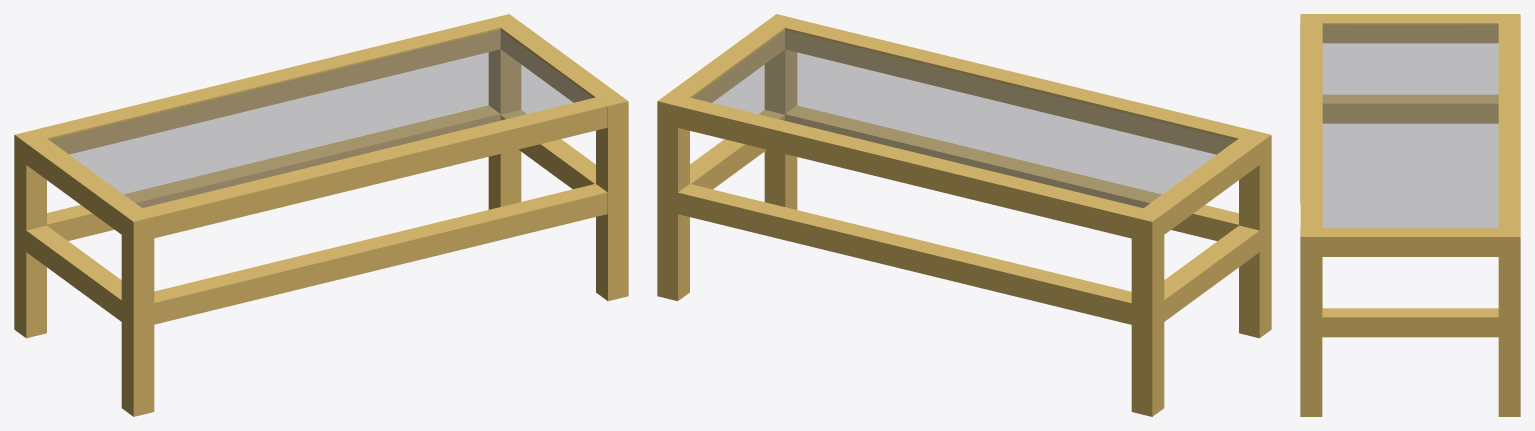
Rendered from coffeeTable.fbx.
3 views of the same model, side by side, from view 1: azimuth 30°, elevation 25°; view 2: azimuth 150°, elevation 25°; view 3: azimuth 270°, elevation 25° (orthographic). The views are drawn at different scales.
Parts seen in each view (by area): view 1: sweethome3d_window_pane, Cube_2_1, Cube_2_2, Cube_2, Cube_2_3, Cube_3, Cube_3_1, Cube_3_3, Cube_1, Cube_1_3, Cube_1_1, Cube_3_2 (+1 smaller); view 2: sweethome3d_window_pane, Cube_2, Cube_2_3, Cube_2_1, Cube_2_2, Cube_3_3, Cube_3_2, Cube_1, Cube_3, Cube_1_3, Cube_1_1, Cube_3_1 (+1 smaller); view 3: sweethome3d_window_pane, Cube_1_1, Cube_1_2, Cube_1, Cube_1_3, Cube_2, Cube_2_1, Cube_3_2, Cube_3_1.
Boxes of the visible parts, bbox=[...] form: sweethome3d_window_pane: bbox=[49, 29, 592, 207]; Cube_2_1: bbox=[142, 97, 607, 238]; Cube_2_2: bbox=[154, 184, 607, 324]; Cube_2: bbox=[35, 19, 500, 154]; Cube_2_3: bbox=[47, 105, 500, 240]; Cube_3: bbox=[121, 214, 154, 416]; Cube_3_1: bbox=[596, 102, 628, 300]; Cube_3_3: bbox=[14, 136, 46, 338]; Cube_1: bbox=[14, 130, 153, 240]; Cube_1_3: bbox=[14, 222, 133, 329]; Cube_1_1: bbox=[489, 14, 628, 106]; Cube_3_2: bbox=[488, 49, 521, 209]; sweethome3d_window_pane: bbox=[692, 30, 1235, 207]; Cube_2: bbox=[678, 97, 1142, 238]; Cube_2_3: bbox=[678, 184, 1131, 324]; Cube_2_1: bbox=[785, 19, 1250, 154]; Cube_2_2: bbox=[785, 105, 1238, 241]; Cube_3_3: bbox=[1131, 215, 1164, 416]; Cube_3_2: bbox=[657, 102, 689, 300]; Cube_1: bbox=[1131, 130, 1271, 243]; Cube_3: bbox=[1239, 135, 1271, 338]; Cube_1_3: bbox=[1152, 222, 1271, 330]; Cube_1_1: bbox=[657, 14, 796, 106]; Cube_3_1: bbox=[764, 49, 797, 209]; sweethome3d_window_pane: bbox=[1323, 25, 1498, 227]; Cube_1_1: bbox=[1300, 227, 1520, 256]; Cube_1_2: bbox=[1300, 308, 1520, 337]; Cube_1: bbox=[1300, 14, 1520, 43]; Cube_1_3: bbox=[1322, 94, 1498, 123]; Cube_2: bbox=[1498, 23, 1520, 227]; Cube_2_1: bbox=[1300, 23, 1322, 227]; Cube_3_2: bbox=[1498, 228, 1520, 416]; Cube_3_1: bbox=[1300, 228, 1322, 416].
Size of the model in its own units: 1.2 by 0.4518 by 0.5011.
